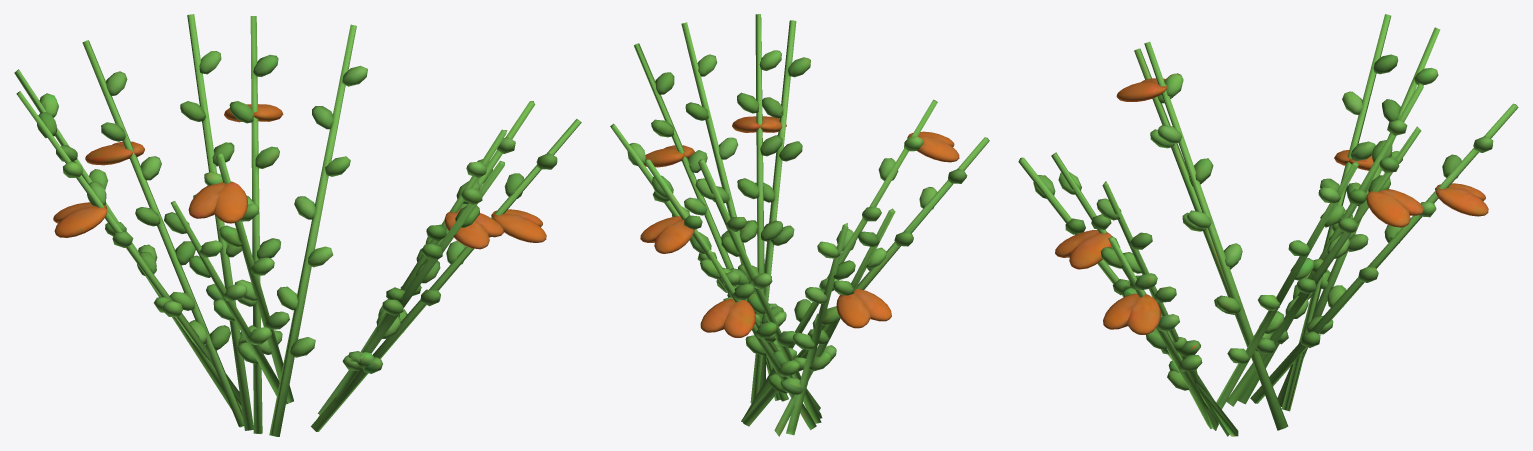
File: crop_lentil.glb
3 views of the same model, side by side, from view 1: azimuth 30°, elevation 25°; view 2: azimuth 150°, elevation 25°; view 3: azimuth 270°, elevation 25° (orthographic). The views are drawn at different scales.
Parts seen in each view (by area): view 1: crop_lentil, fruit; view 2: crop_lentil, fruit; view 3: crop_lentil, fruit.
Part boxes in pixels (left/top/right/bottom): crop_lentil: left=14, top=14, right=581, bottom=436; fruit: left=53, top=104, right=546, bottom=249; crop_lentil: left=610, top=14, right=989, bottom=436; fruit: left=640, top=116, right=959, bottom=337; crop_lentil: left=1018, top=14, right=1518, bottom=436; fruit: left=1055, top=78, right=1488, bottom=334.
Size of the model in its own units: 0.2328 by 0.181 by 0.2442.
Materials: 1 (1 with a texture image).
